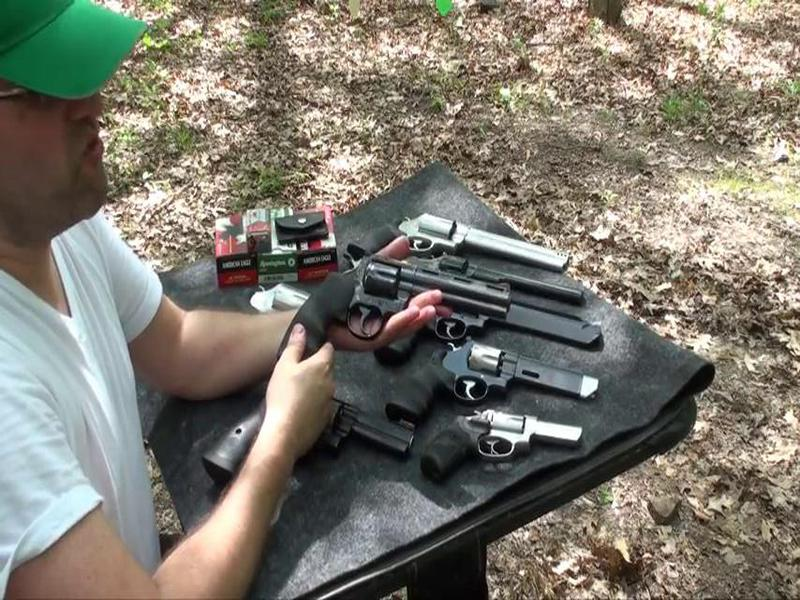Revolver: (292, 251, 516, 388)
